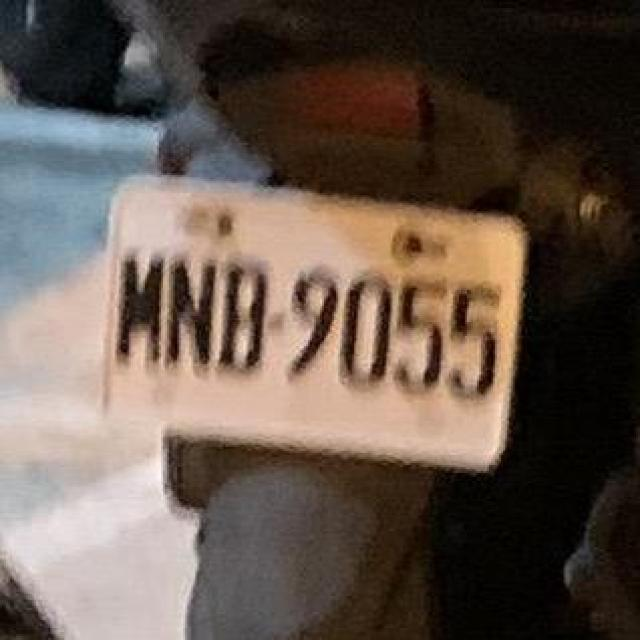W: (82, 133, 566, 499)
